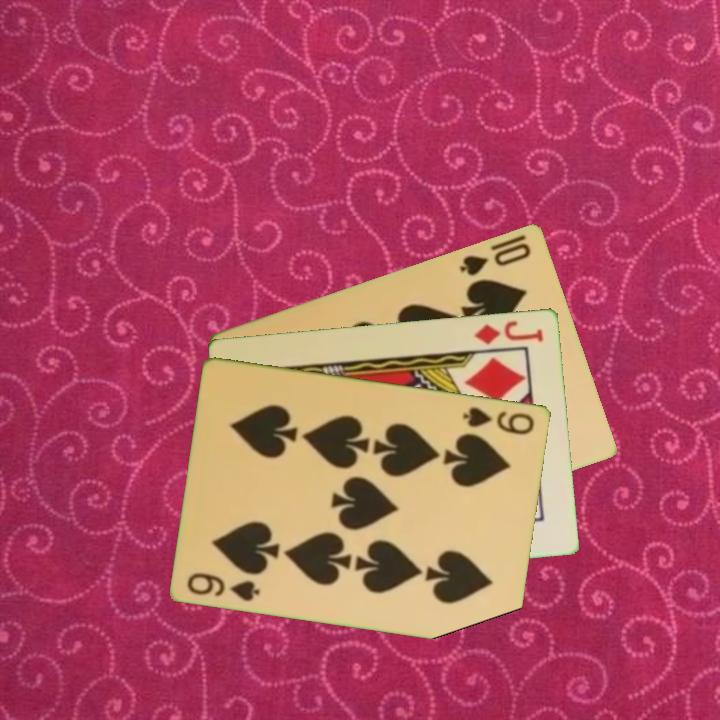10s: (456, 238, 534, 278)
9s: (184, 568, 263, 604), (460, 403, 538, 438)
Jd: (470, 317, 546, 348)
